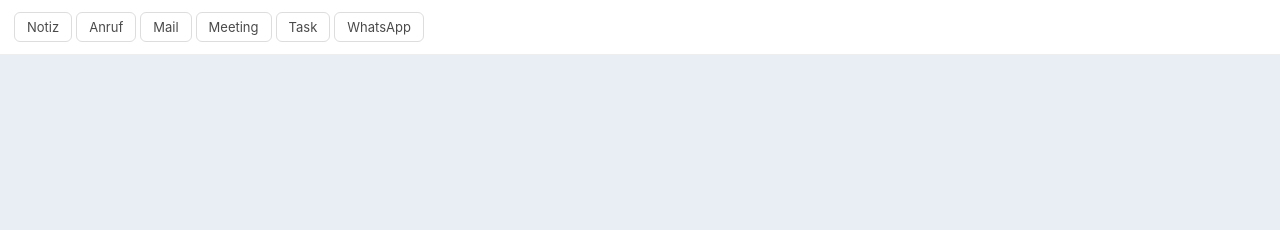
Test: EventComposer › clicking Notiz expands NoteComposer
Click the button "Notiz" at (43, 27), box [14, 12, 72, 42]
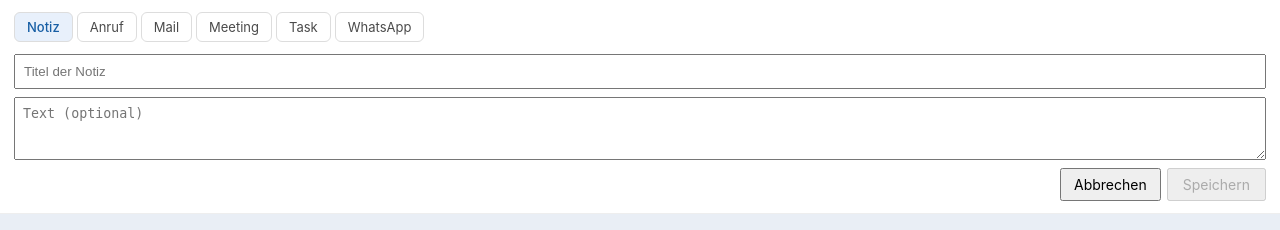
Expected: the field with placeholder "Titel der Notiz" is shown, [14, 54, 1266, 89]
